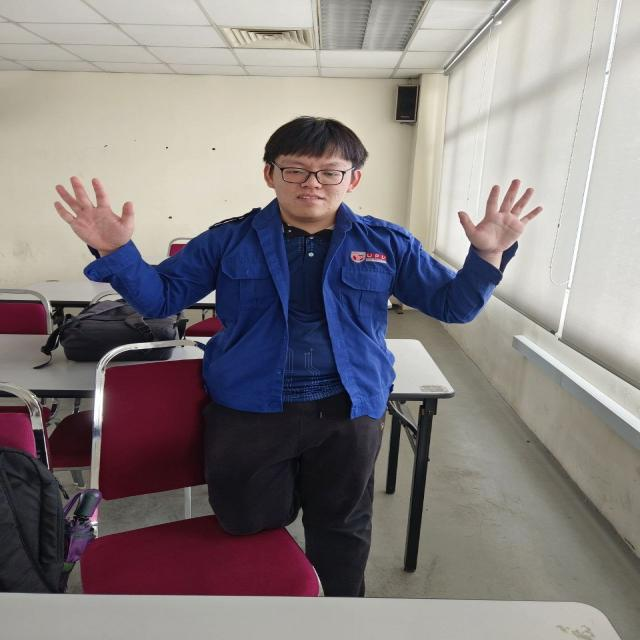person_with_labcoat: (55, 116, 541, 596)
